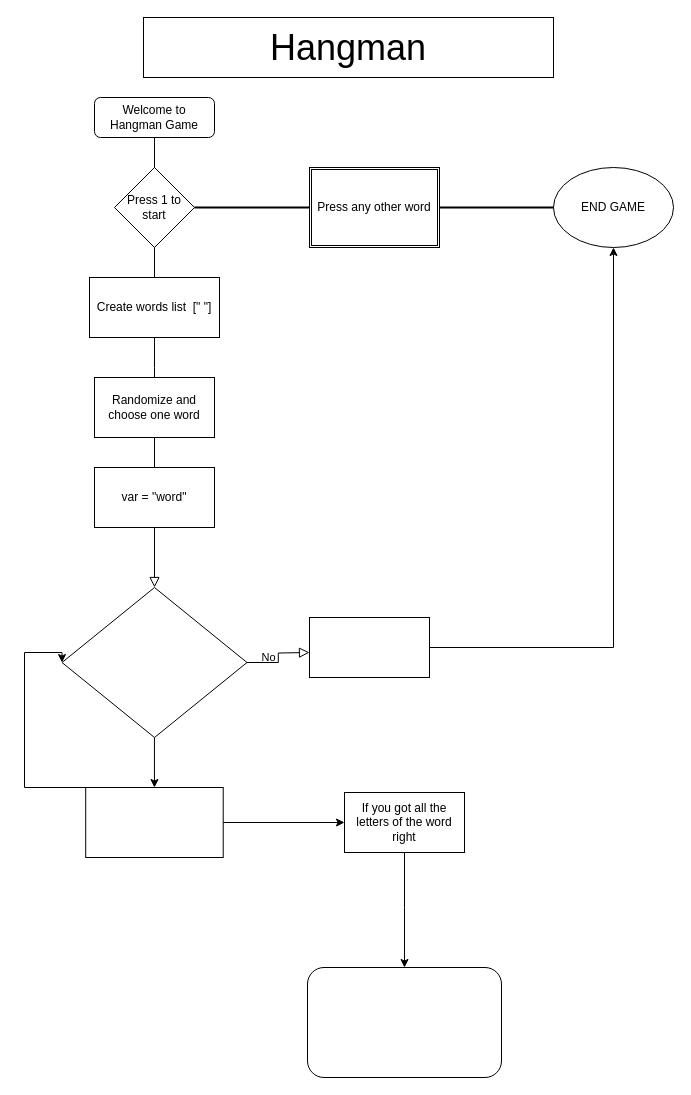
This 691x1095 diagram has some shape labels left out. The shapes that lost their labels are listed below. From the top down, each one's centre as x and y in pixels, then its label:
At point 154,662: "Choose a letter and try to get the word right".
At point 369,647: "Counter + 1 if counter > 6".
At point 154,822: "Show where is the right letter in the word".
At point 404,1022: "You win".
